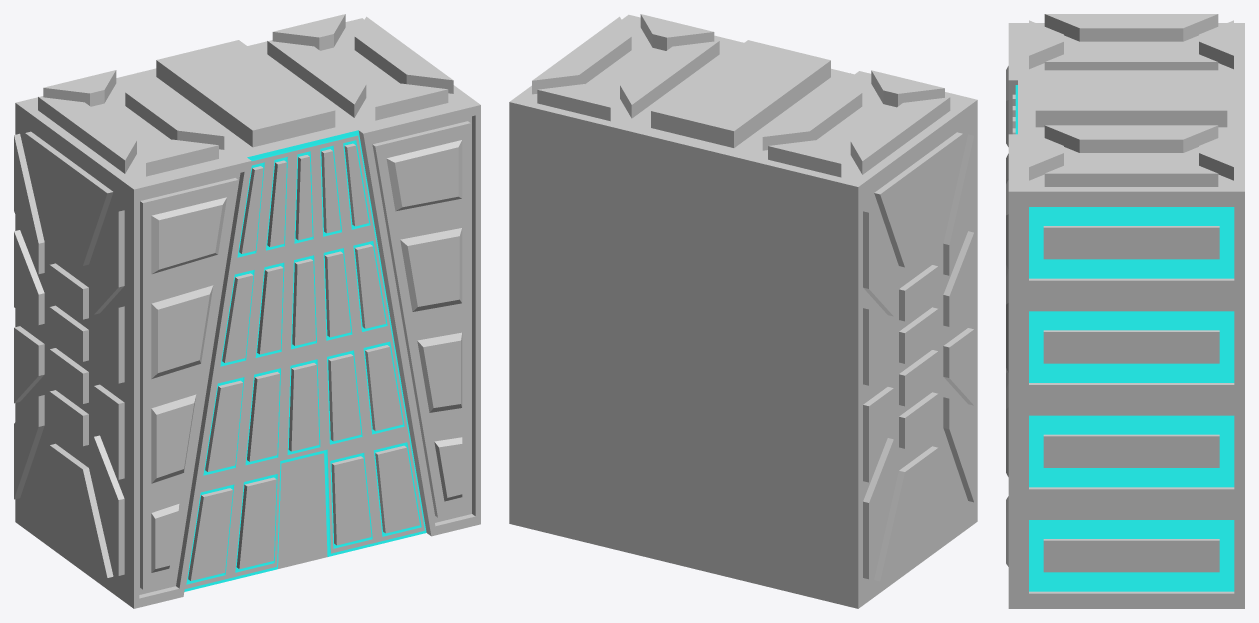
The model's file is building9.glb.
The picture shows the model from 3 angles, left to right: view 1: azimuth 30°, elevation 25°; view 2: azimuth 150°, elevation 25°; view 3: azimuth 270°, elevation 25°; orthographic projection.
Visible parts, largest first — view 1: Cube.031; view 2: Cube.031; view 3: Cube.031.
Part boxes in pixels (bbox=[...]): Cube.031: bbox=[14, 14, 480, 608]; Cube.031: bbox=[509, 14, 977, 608]; Cube.031: bbox=[1006, 14, 1244, 608].
Size of the model in its own units: 42.46 by 50.15 by 25.
